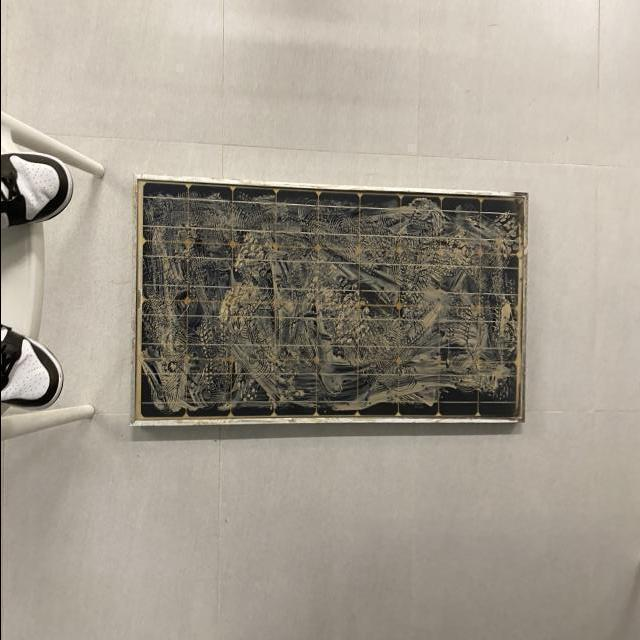Anomaly Solar Panel: (134, 186, 527, 429)
Surface Contaminant: (141, 191, 524, 413)
